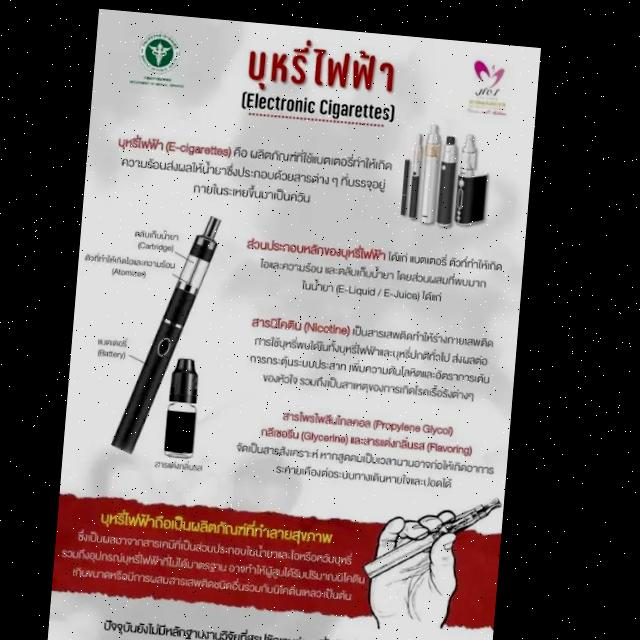vape: (119, 212, 225, 451), (370, 479, 510, 583), (458, 124, 495, 220), (422, 114, 445, 218), (440, 126, 462, 218), (412, 124, 426, 212), (403, 150, 413, 209)
